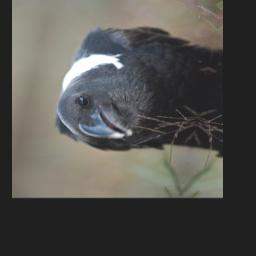Crow: (47, 18, 212, 161)
